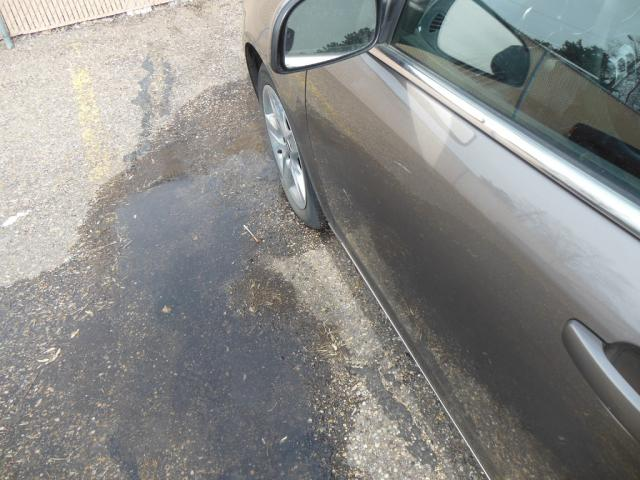Door-handle: (562, 314, 640, 446)
